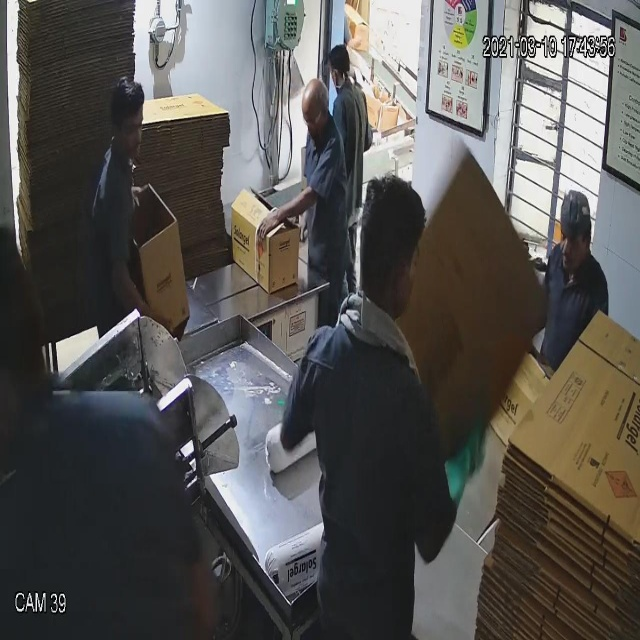Sin_guantes: (101, 268, 180, 353), (254, 187, 327, 238)
